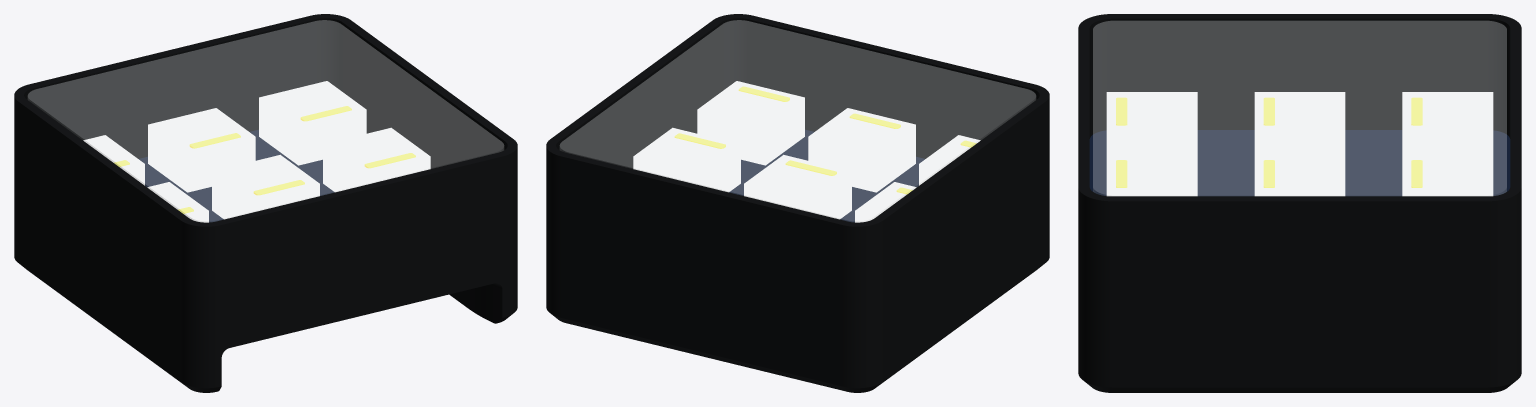
Rendered from led-grid.glb.
3 views of the same model, side by side, from view 1: azimuth 30°, elevation 25°; view 2: azimuth 150°, elevation 25°; view 3: azimuth 270°, elevation 25° (orthographic). The views are drawn at different scales.
Visible parts, largest first — view 1: black, glass, led_1, led_2, led_4, led_5, pcb, led_or, led_0, led_3; view 2: black, glass, led_7, led_8, led_4, led_5, pcb, led_or, led_6, led_3; view 3: black, glass, pcb, led_0, led_6, led_3, led_1, led_7, led_4, led_or.
Part boxes in pixels (<box>): black: <box>14,14,517,392</box>; glass: <box>28,20,503,222</box>; led_1: <box>148,108,255,192</box>; led_2: <box>259,81,366,165</box>; led_4: <box>212,154,319,219</box>; led_5: <box>323,127,430,192</box>; pcb: <box>139,129,334,222</box>; led_or: <box>113,106,415,213</box>; led_0: <box>83,135,144,185</box>; led_3: <box>147,182,208,222</box>; black: <box>546,14,1049,392</box>; glass: <box>560,20,1035,222</box>; led_7: <box>808,108,915,192</box>; led_8: <box>697,81,804,165</box>; led_4: <box>744,154,851,219</box>; led_5: <box>633,127,740,192</box>; pcb: <box>729,129,924,222</box>; led_or: <box>674,86,976,194</box>; led_6: <box>919,135,980,185</box>; led_3: <box>855,182,916,222</box>; black: <box>1078,14,1521,392</box>; glass: <box>1093,21,1506,195</box>; pcb: <box>1089,130,1510,196</box>; led_0: <box>1402,92,1493,154</box>; led_6: <box>1106,92,1197,154</box>; led_3: <box>1254,92,1345,154</box>; led_1: <box>1402,154,1493,196</box>; led_7: <box>1106,154,1197,196</box>; led_4: <box>1254,154,1345,196</box>; led_or: <box>1116,97,1422,187</box>.
Bounding box in the file's own units: 0.0195 × 0.00954 × 0.0195.
